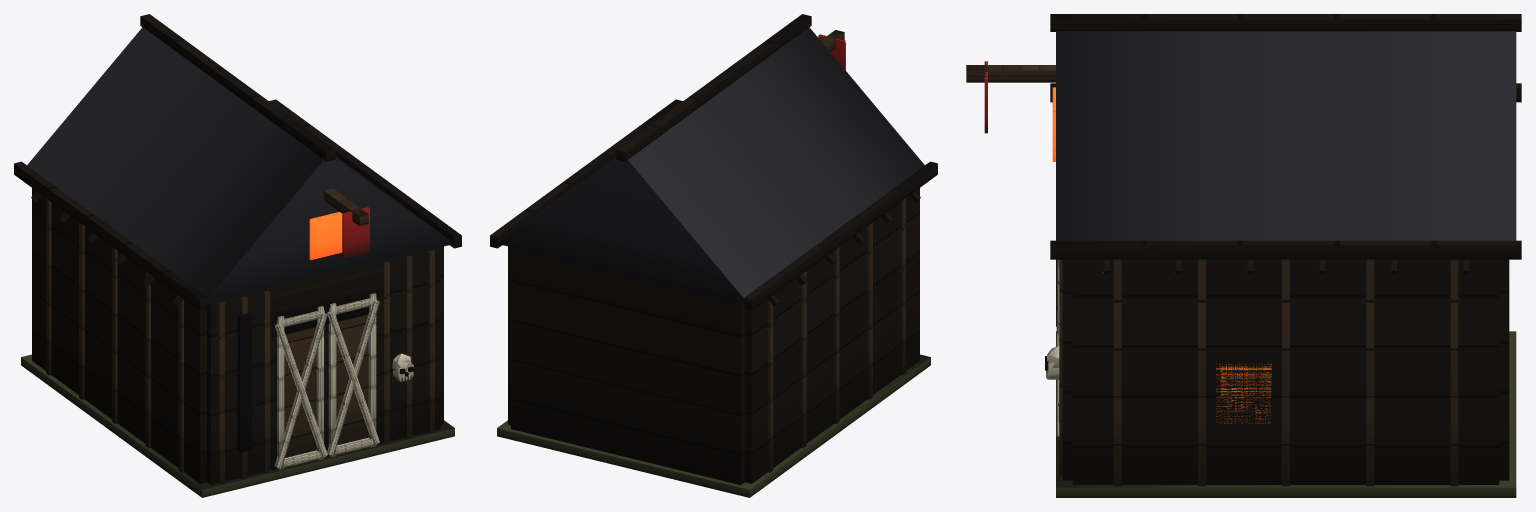
The model's file is creepy_barn.gltf.
3 renders of one model, left to right at view 1: azimuth 30°, elevation 25°; view 2: azimuth 150°, elevation 25°; view 3: azimuth 270°, elevation 25°, orthographic. The views are drawn at different scales.
Visible parts, largest first — view 1: creepy_barn; view 2: creepy_barn; view 3: creepy_barn.
Boxes of the visible parts, box(x1,y1,x2,y2) form: creepy_barn: box(14, 14, 461, 497); creepy_barn: box(490, 14, 937, 497); creepy_barn: box(966, 14, 1521, 497).
Size of the model in its own units: 3.52 by 3.96 by 4.95.
1 material, 1 textured.
